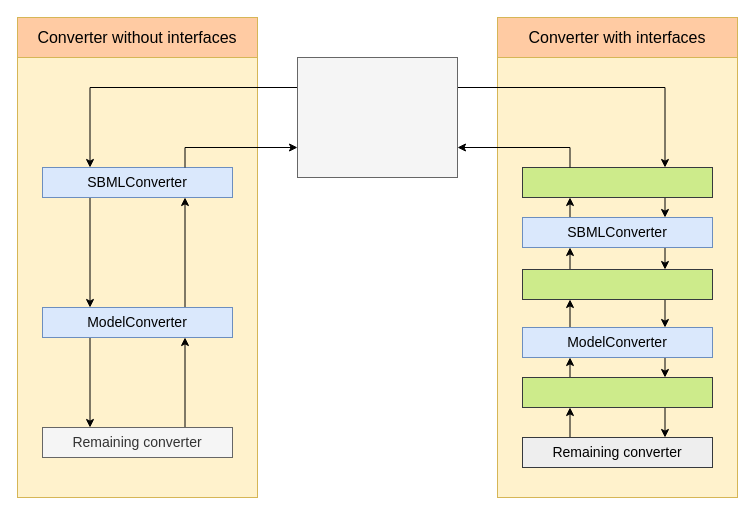
Some shapes in this 755 by 515 pixel diagram are drawn without their labels. The centre of each missing label's shape, as x and y in pixels:
"External Actor" belongs at [377,117].
"Interface" belongs at [617,392].
"ModelConverter Interface" belongs at [617,284].
"SBMLConverter Interface" belongs at [617,182].
